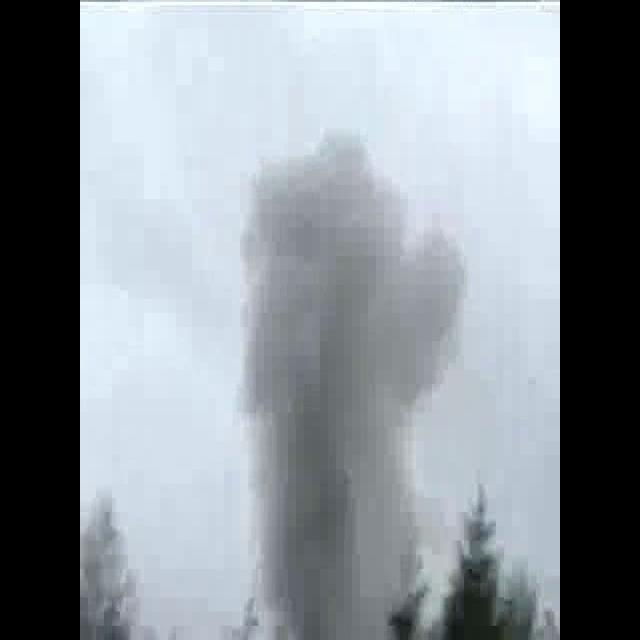Smoke: (225, 125, 480, 640)
